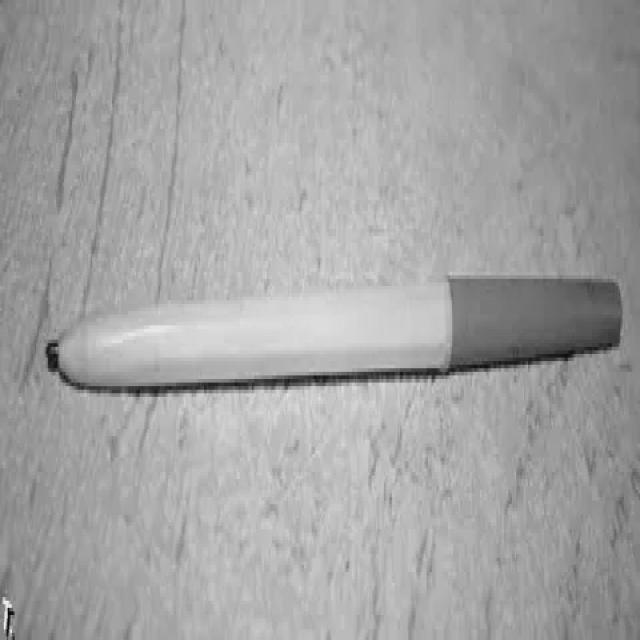pencil: (29, 249, 626, 435)
